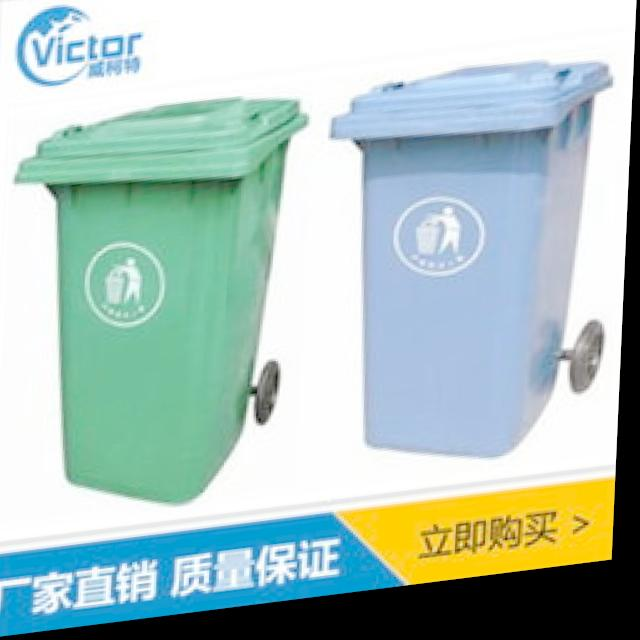garbage_bin: (2, 94, 314, 528), (318, 62, 613, 487)
